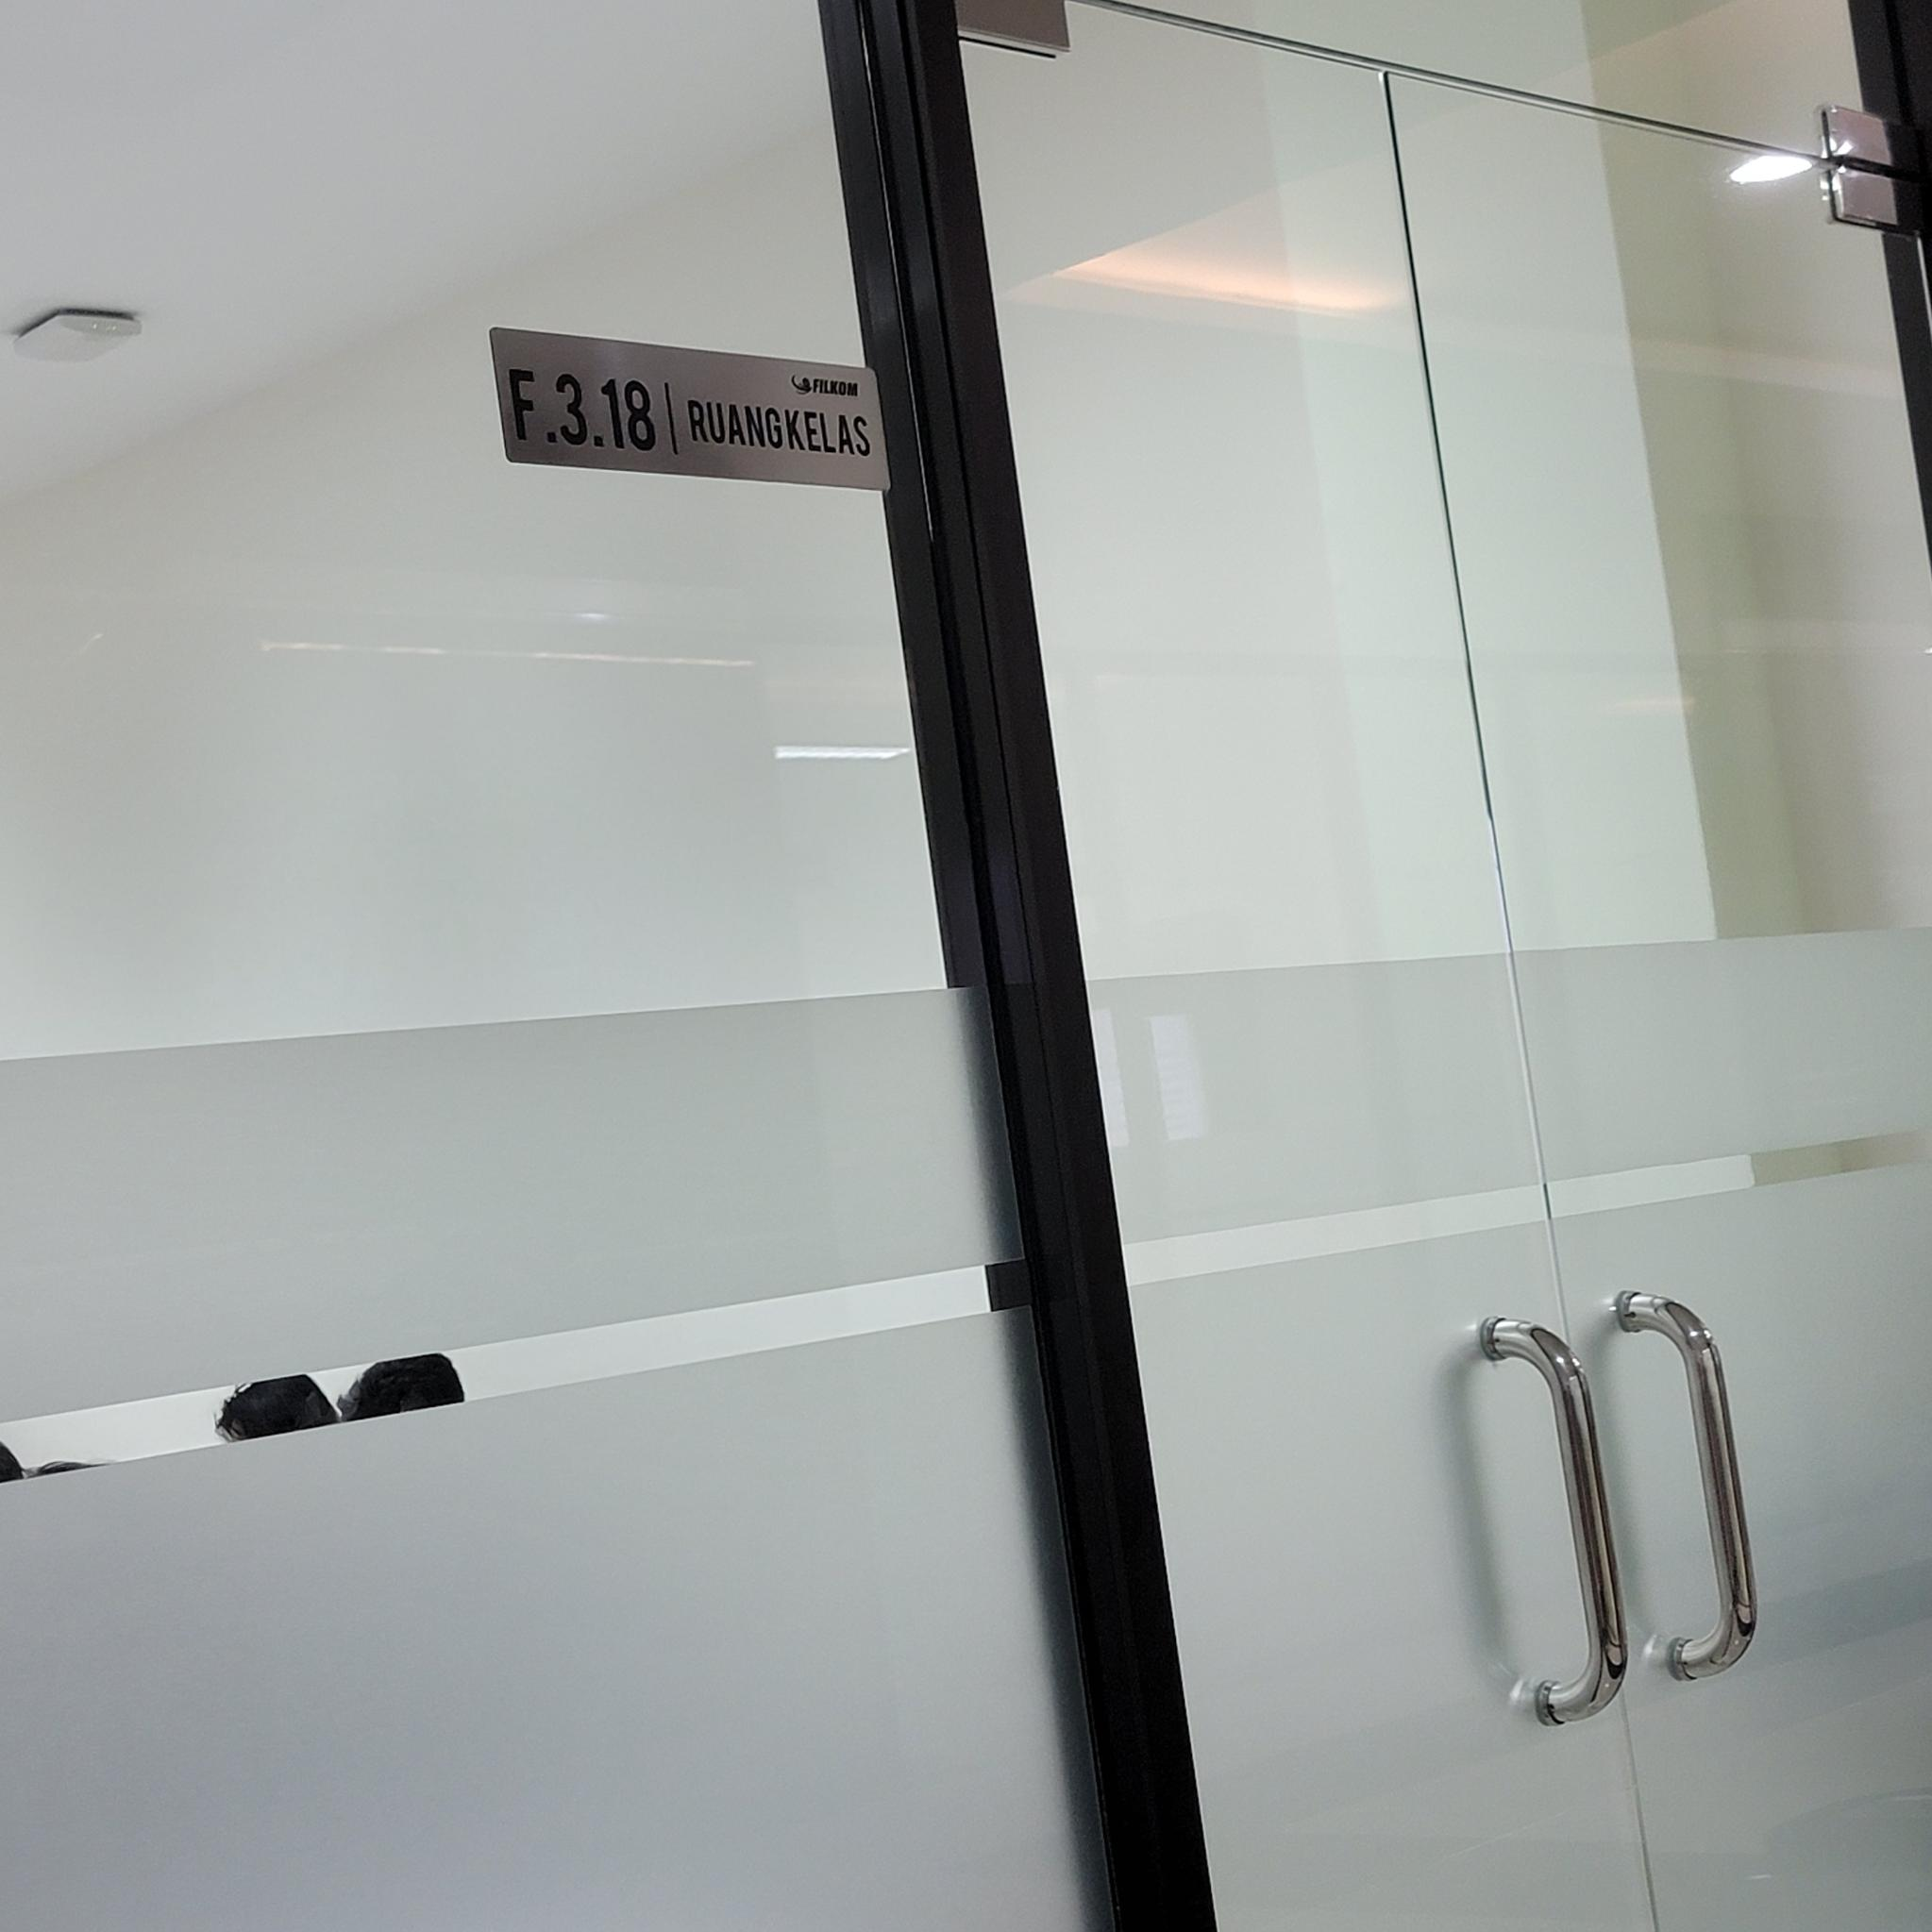plate: (488, 324, 893, 494)
